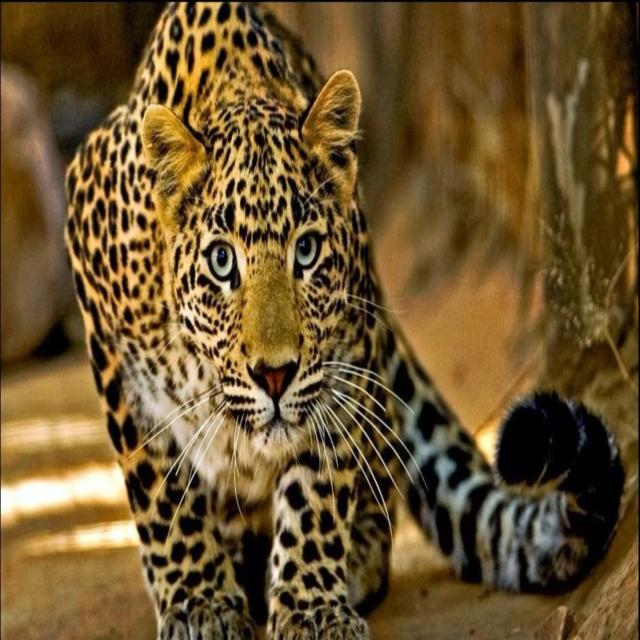Jaguar: (58, 0, 622, 640)
